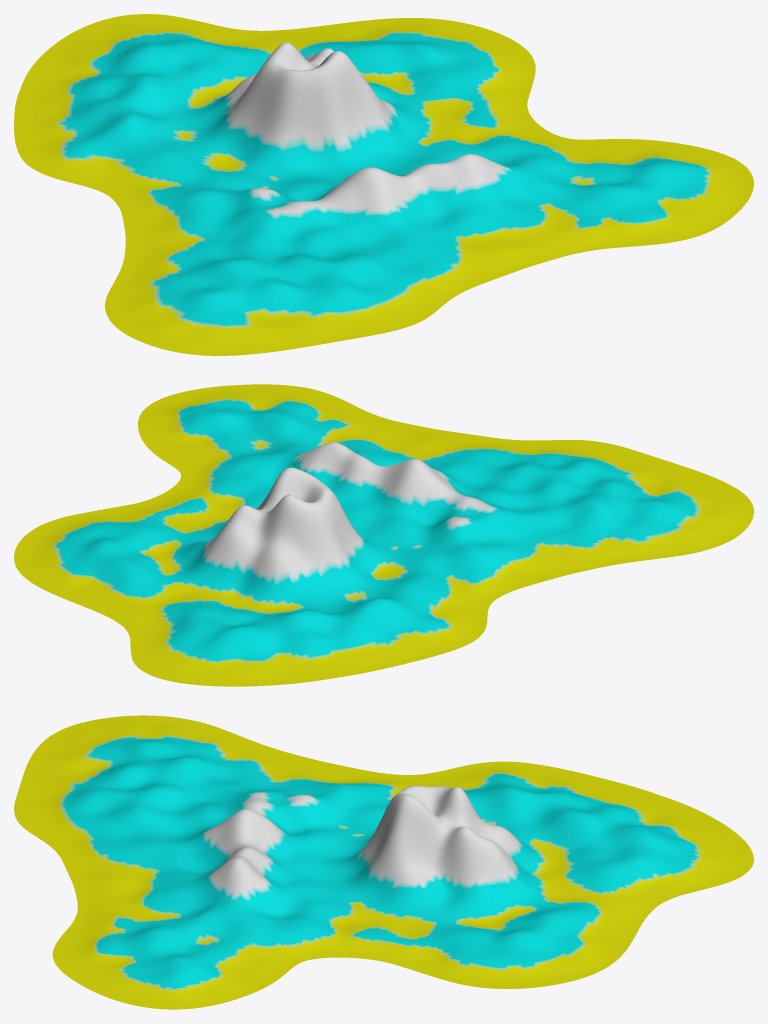
File: island.obj.glb
3 renders of one model, top to bottom at view 1: azimuth 30°, elevation 25°; view 2: azimuth 150°, elevation 25°; view 3: azimuth 270°, elevation 25°, orthographic. The views are drawn at different scales.
Size of the model in its own units: 7928 by 1069 by 8430.
